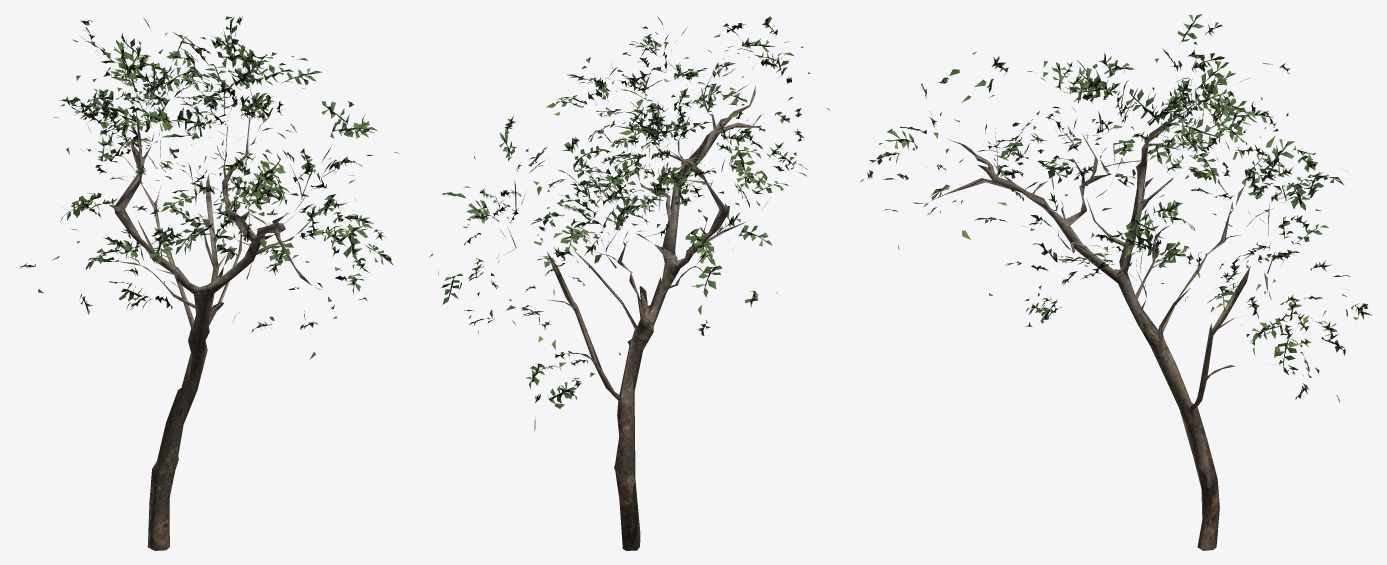
Rendered from arbre_petit_ornement_lod1.glb.
The picture shows the model from 3 angles, left to right: view 1: azimuth 30°, elevation 25°; view 2: azimuth 150°, elevation 25°; view 3: azimuth 270°, elevation 25°; orthographic projection. The views are drawn at different scales.
Visible parts, largest first — view 1: tree_small_02_LOD0; view 2: tree_small_02_LOD0; view 3: tree_small_02_LOD0.
Boxes of the visible parts, bbox=[...] form: tree_small_02_LOD0: bbox=[16, 16, 398, 550]; tree_small_02_LOD0: bbox=[429, 16, 829, 550]; tree_small_02_LOD0: bbox=[860, 14, 1371, 550].
Size of the model in its own units: 2.88 by 4.53 by 4.25.
3 materials, 3 textured.
